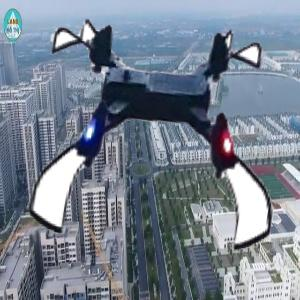drone: (37, 15, 286, 264)
